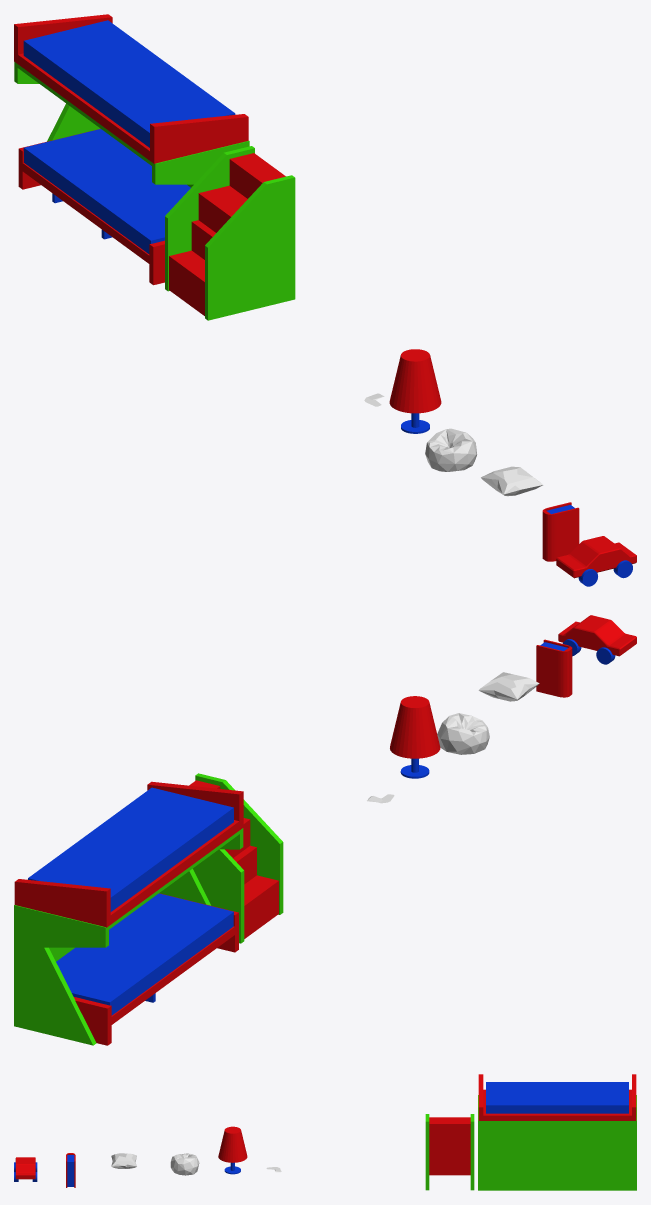
Rendered from otherStuffs.fbx.
The picture shows the model from 3 angles, top to bottom: view 1: azimuth 30°, elevation 25°; view 2: azimuth 150°, elevation 25°; view 3: azimuth 270°, elevation 25°; orthographic projection. The views are drawn at different scales.
Visible parts, largest first — view 1: DoubleBed, Lamp, car, Book', BeanBag, Pillow; view 2: DoubleBed, Lamp, car, Book', BeanBag, Pillow; view 3: DoubleBed, Lamp, car, BeanBag, Pillow, Book'.
Part boxes in pixels (x1,y1,x2,y2): DoubleBed: [14, 14, 295, 320]; Lamp: [389, 349, 441, 433]; car: [556, 536, 636, 586]; Book': [542, 502, 579, 561]; BeanBag: [425, 428, 477, 471]; Pillow: [481, 466, 542, 496]; DoubleBed: [14, 773, 283, 1045]; Lamp: [390, 696, 440, 778]; car: [558, 615, 636, 664]; Book': [536, 639, 572, 697]; BeanBag: [437, 713, 489, 754]; Pillow: [478, 672, 539, 701]; DoubleBed: [425, 1074, 636, 1190]; Lamp: [218, 1126, 247, 1174]; car: [14, 1157, 37, 1181]; BeanBag: [170, 1153, 199, 1175]; Pillow: [111, 1153, 136, 1168]; Book': [66, 1153, 75, 1187].
Bounding box in the file's own units: 421 × 739 × 4263.
